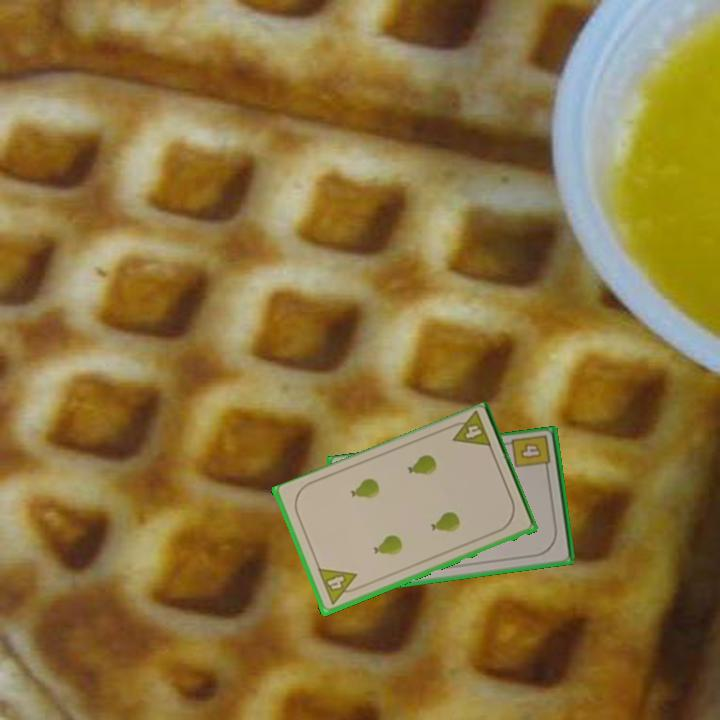4b: (509, 432, 554, 477)
4p: (444, 409, 494, 452), (315, 565, 363, 608)
